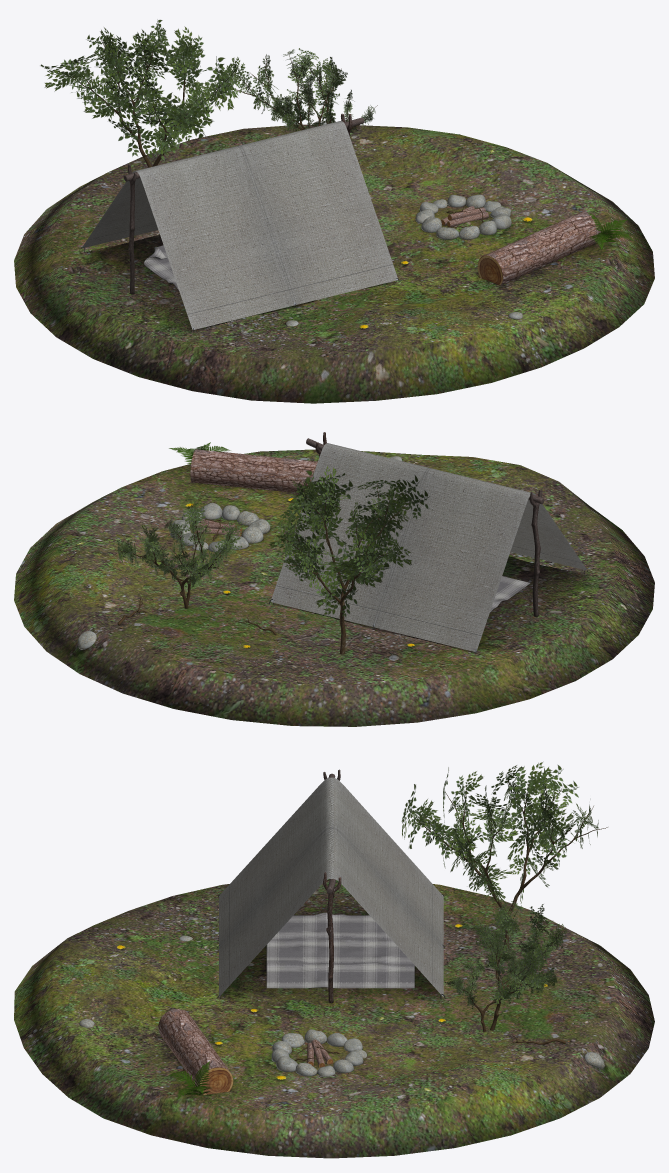
Rendered from tent.glb.
The picture shows the model from 3 angles, top to bottom: view 1: azimuth 30°, elevation 25°; view 2: azimuth 150°, elevation 25°; view 3: azimuth 270°, elevation 25°; orthographic projection.
Parts seen in each view (by area): view 1: ground, tent, log, tree.002, leaf.056, fern, blanket, fork2, leaf.047, leaf.045; view 2: ground, tent, log, tree.002, fork2, blanket, leaf.006, leaf.045, leaf.047, leaf.003, tree.004, leaf.075; view 3: ground, tent, blanket, log, tree.002, fern, fork1, leaf.018.
Part boxes in pixels (x1,y1,x2,y2): ground: (14, 124, 654, 403); tent: (82, 120, 397, 329); log: (477, 211, 600, 285); tree.002: (73, 35, 238, 167); leaf.056: (164, 92, 213, 132); fern: (587, 212, 632, 250); blanket: (144, 245, 178, 290); fork2: (128, 164, 136, 294); leaf.047: (121, 82, 168, 115); leaf.045: (117, 120, 160, 156); ground: (14, 449, 654, 726); tent: (271, 443, 587, 651); log: (190, 449, 317, 492); tree.002: (285, 476, 409, 654); fork2: (529, 489, 541, 616); blanket: (490, 576, 530, 612); leaf.006: (352, 530, 383, 571); leaf.045: (315, 585, 358, 617); leaf.047: (388, 490, 429, 519); leaf.003: (365, 537, 411, 567); tree.004: (115, 501, 233, 608); leaf.075: (302, 480, 355, 506); ground: (14, 879, 654, 1158); tent: (219, 777, 443, 996); blanket: (266, 912, 414, 988); log: (158, 1009, 233, 1094); tree.002: (410, 780, 607, 949); fern: (165, 1061, 211, 1100); fork1: (323, 872, 341, 1003); leaf.018: (508, 762, 552, 804).
Size of the model in its own units: 15.55 by 5.38 by 15.39.
17 materials, 16 textured.
